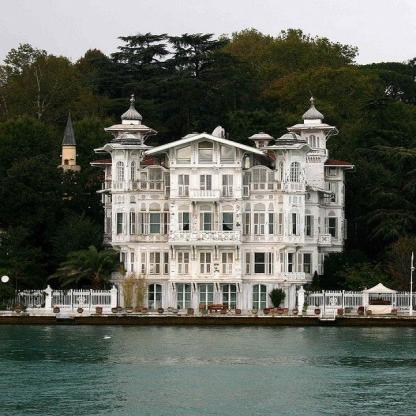Balcony: (169, 231, 240, 242), (189, 189, 219, 199), (279, 273, 305, 280), (111, 272, 128, 279), (319, 234, 331, 243)
Building Outline: (89, 94, 357, 313)
Deco: (254, 203, 264, 209), (178, 205, 189, 210), (150, 203, 160, 208), (201, 205, 211, 210), (223, 205, 233, 210), (303, 209, 311, 214), (290, 208, 299, 212), (130, 196, 135, 202), (293, 196, 297, 203), (328, 211, 335, 215), (269, 203, 273, 209), (141, 203, 145, 209), (118, 196, 122, 202), (279, 196, 283, 201), (246, 203, 249, 209), (164, 203, 167, 209), (299, 197, 302, 203), (122, 196, 125, 202), (289, 196, 291, 203), (114, 196, 116, 202), (279, 209, 283, 212)
Facade: (89, 93, 358, 313)
Glass Wall: (198, 140, 213, 164), (220, 145, 234, 164), (177, 145, 191, 164), (201, 175, 212, 196), (179, 175, 190, 196), (223, 175, 234, 196), (280, 162, 283, 189)
Roof: (144, 133, 267, 155), (260, 144, 324, 150), (94, 143, 155, 149), (107, 125, 150, 128), (291, 124, 332, 127)
Window: (148, 284, 162, 309), (253, 285, 266, 309), (177, 285, 190, 309), (223, 285, 236, 309), (200, 285, 213, 309), (290, 162, 300, 190), (254, 252, 266, 274), (254, 213, 265, 235), (222, 213, 233, 234), (222, 253, 233, 273), (178, 253, 189, 273), (200, 253, 211, 273), (150, 213, 160, 235), (117, 161, 124, 187), (150, 253, 159, 273), (253, 169, 266, 182), (148, 169, 161, 182), (183, 213, 190, 236), (204, 213, 211, 235), (303, 254, 310, 274), (163, 213, 169, 234), (129, 213, 135, 234), (141, 213, 147, 234), (163, 172, 170, 189), (140, 172, 147, 189), (329, 218, 335, 237), (269, 213, 274, 235), (117, 213, 122, 234), (268, 172, 274, 189), (245, 172, 251, 189), (130, 162, 134, 186), (331, 183, 336, 202), (309, 135, 316, 148), (245, 213, 249, 235), (269, 253, 273, 274), (292, 213, 296, 234), (288, 253, 292, 274), (247, 253, 251, 274), (142, 253, 146, 273), (254, 183, 265, 189), (150, 183, 161, 189), (279, 213, 282, 234), (165, 253, 168, 273), (307, 216, 310, 235), (131, 253, 134, 272), (329, 168, 336, 176), (305, 137, 308, 148), (317, 137, 319, 148)
